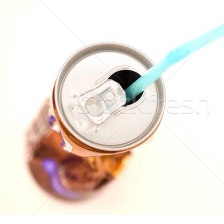can: (16, 38, 171, 210)
drinking_straw: (124, 15, 224, 106)
